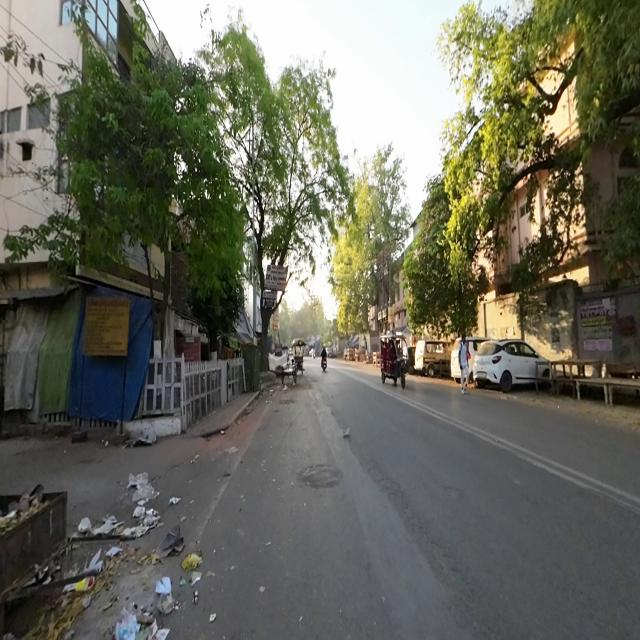Garbage: (24, 547, 116, 640), (77, 470, 161, 542), (110, 577, 180, 640), (157, 524, 213, 569)
